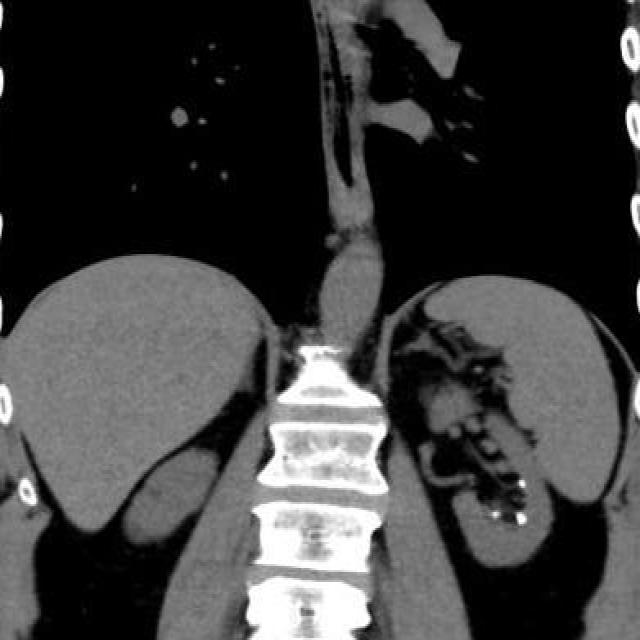Tas_Var: (514, 510, 530, 530), (491, 508, 504, 522), (518, 478, 530, 492)
